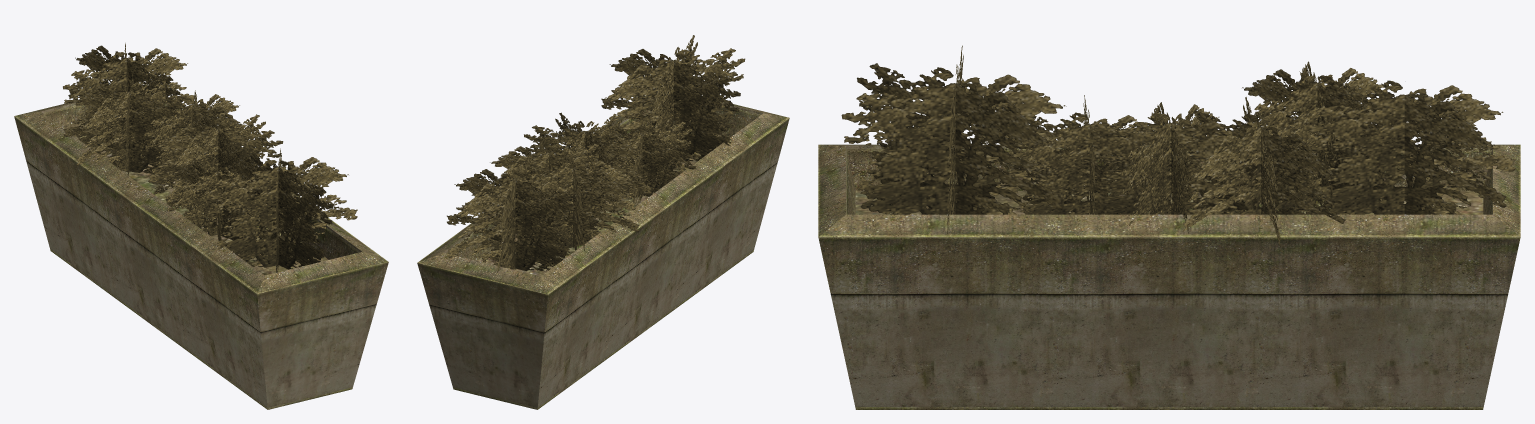
File: M_Home_Garden_foilage4.fbx
3 views of the same model, side by side, from view 1: azimuth 30°, elevation 25°; view 2: azimuth 150°, elevation 25°; view 3: azimuth 270°, elevation 25° (orthographic). The views are drawn at different scales.
Visible parts, largest first — view 1: M_Home_Garden_foilage4; view 2: M_Home_Garden_foilage4; view 3: M_Home_Garden_foilage4.
Part boxes in pixels (x1,y1,x2,y2): M_Home_Garden_foilage4: [14, 43, 388, 409]; M_Home_Garden_foilage4: [417, 35, 789, 409]; M_Home_Garden_foilage4: [818, 45, 1520, 409].
Size of the model in its own units: 92.47 by 116 by 236.
